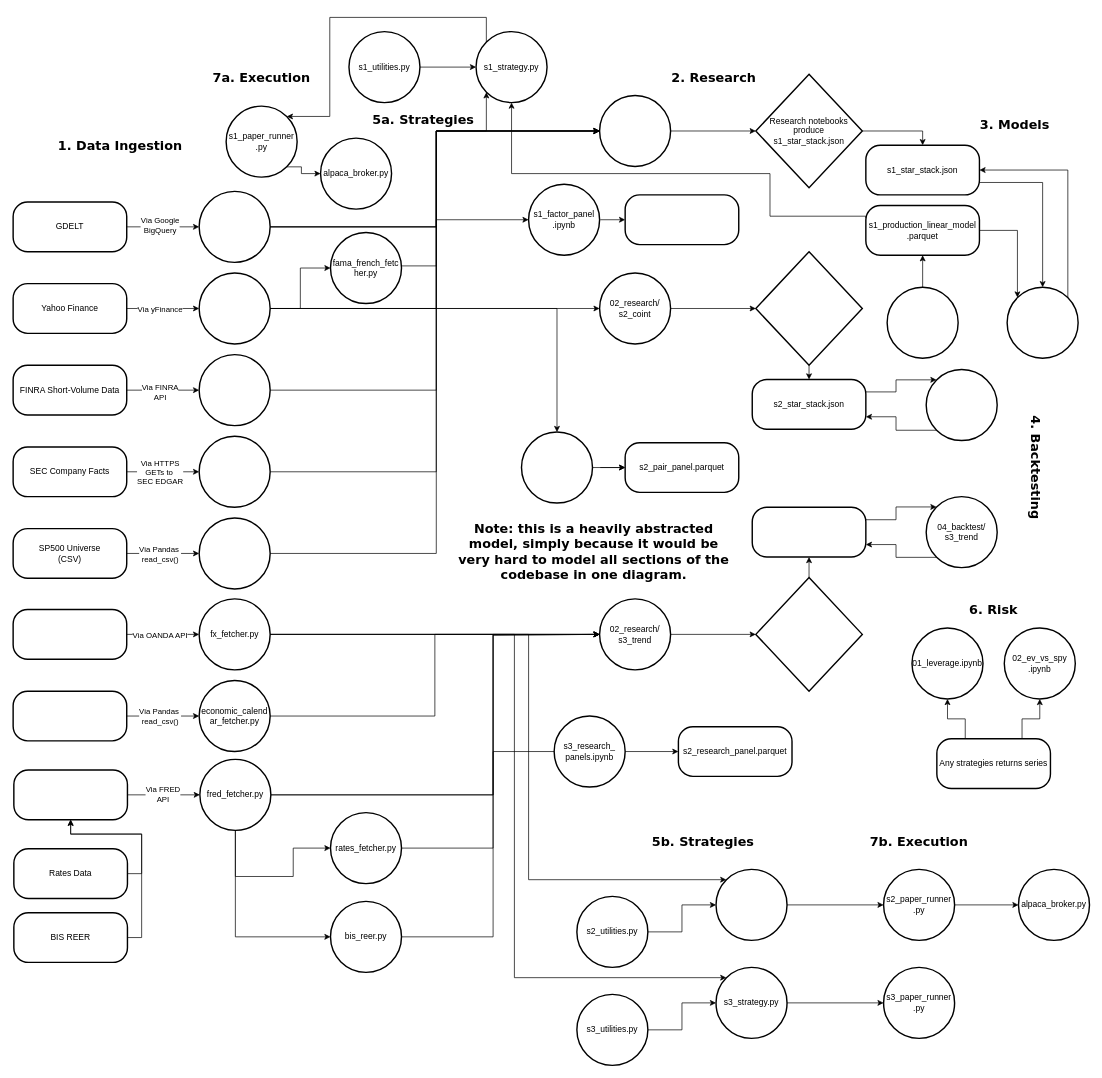
Image size: 1102x1078. Some labels were removed from this diagram. The centre of each missing label's shape, as x and y in pixels:
01_training_ production.ipynb: point (922, 322)
02_research/ s1_equities: point (635, 130)
04_backtest/ s1_equities: point (1042, 322)
04_backtest/ s2_coint: point (961, 404)
Economic Calendar Data (CSV): point (69, 715)
equity_fetcher.py: point (234, 308)
finra_short_volu me.py: point (234, 390)
FRED: point (70, 794)
gdelt_fetcher.py: point (234, 226)
OANDA FX Data: point (69, 634)
Research produces s2_star_stack.json: point (809, 308)
Research produces s3_star_stack.json: point (809, 634)
s1_factor_panel .i pynb: point (556, 467)
s1_factor_panel.parquet: point (681, 219)
s2_strategy.py: point (751, 904)
s3_star_stack.json: point (808, 531)
sec_companyfact s.py: point (234, 471)
sp500_universe.py: point (234, 553)
